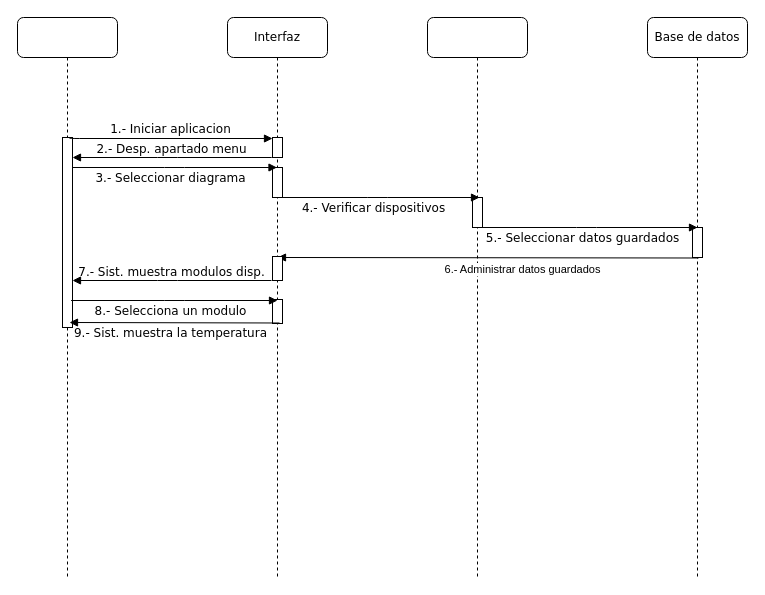
The diagram is 765 pixels wide and 595 high, and some of its shapes have lost their labels. Each missing label, with the box of its shape:
Capa de negocio: (426, 16, 528, 578)
Usuario: (16, 16, 118, 578)
